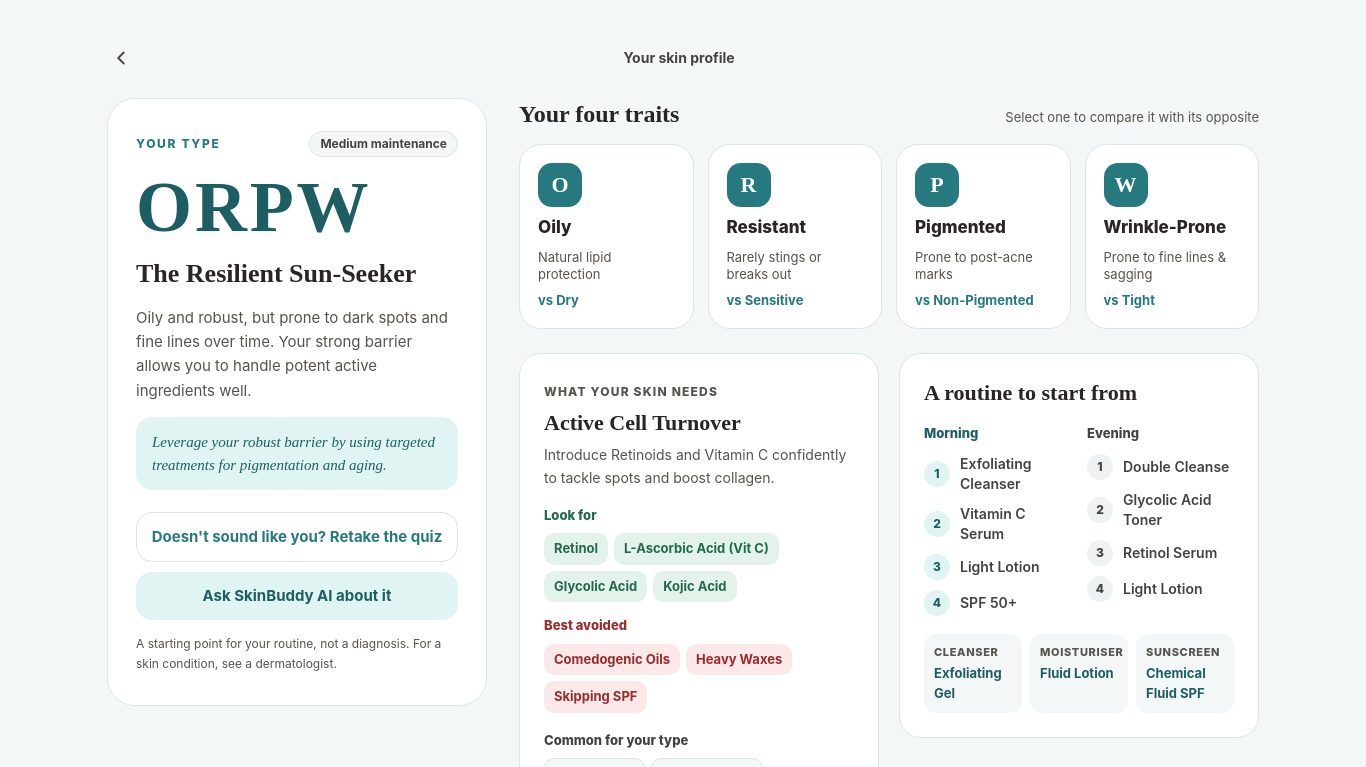
Scenario: src/views/SkinProfileView.vue › comparison sheet › wraps from the first trait to the fourth with previous
Click the button "O Oily Natural lipid protection vs Dry" at (606, 236), box [519,144,694,329]
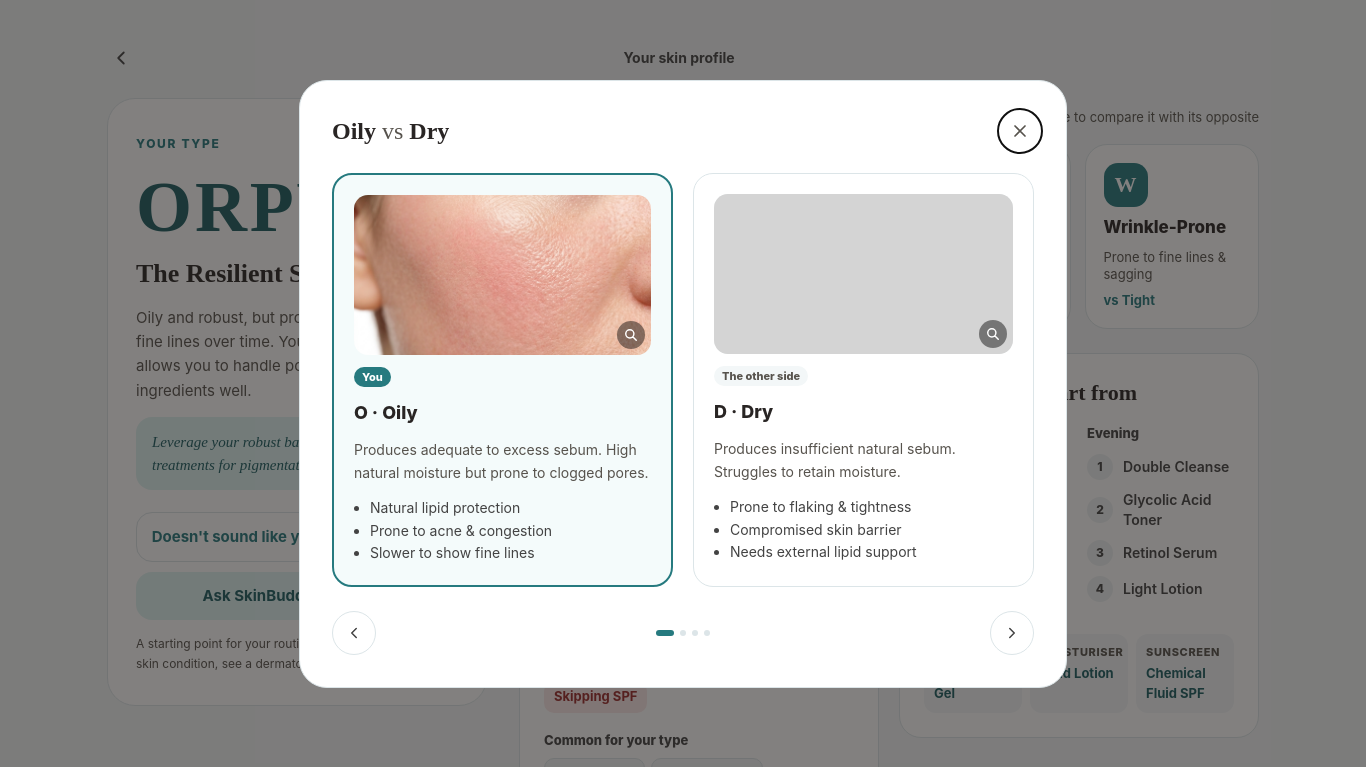
Click the button named "Previous trait: Wrinkle-Prone vs Tight" at (354, 633), box [332,611,376,655]
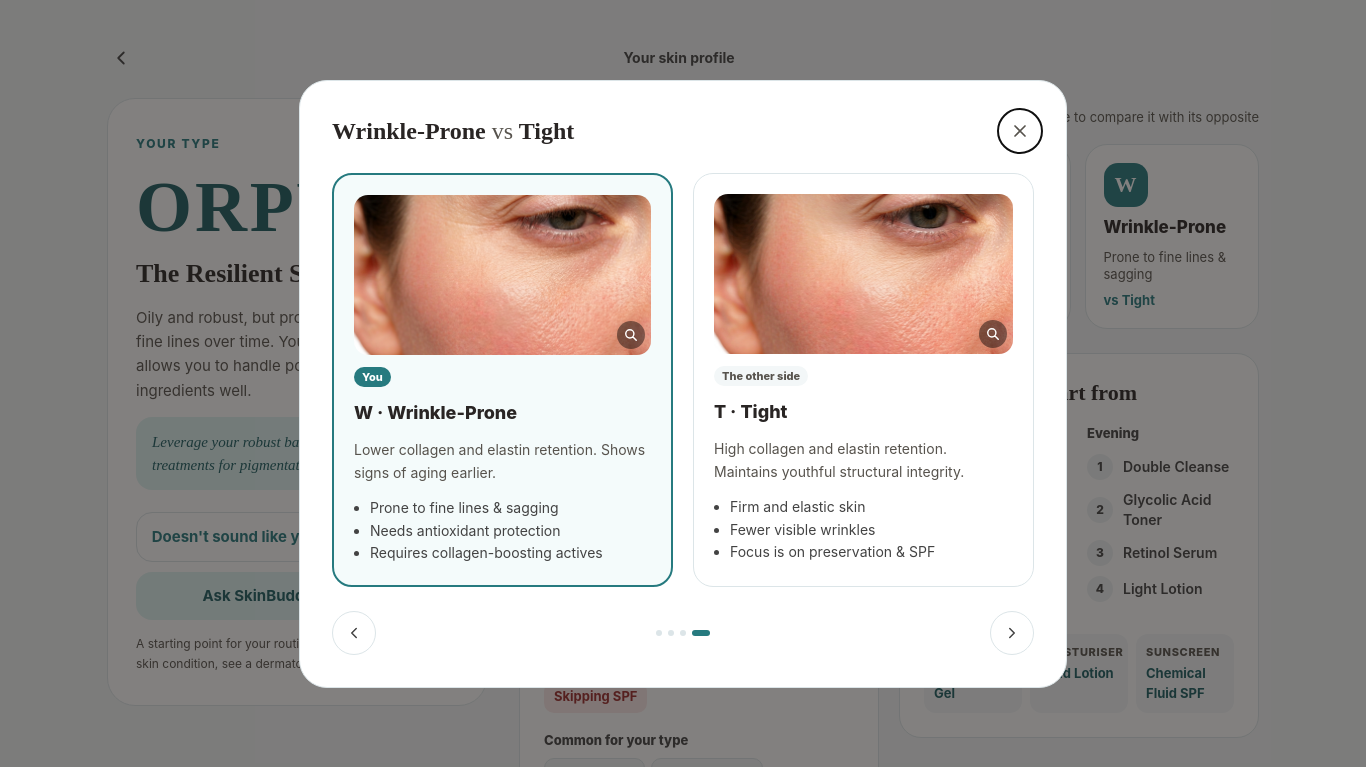
Check: the heading with id "trait-sheet-heading" reads "Wrinkle-Prone vs Tight", box [332,115,574,147]
